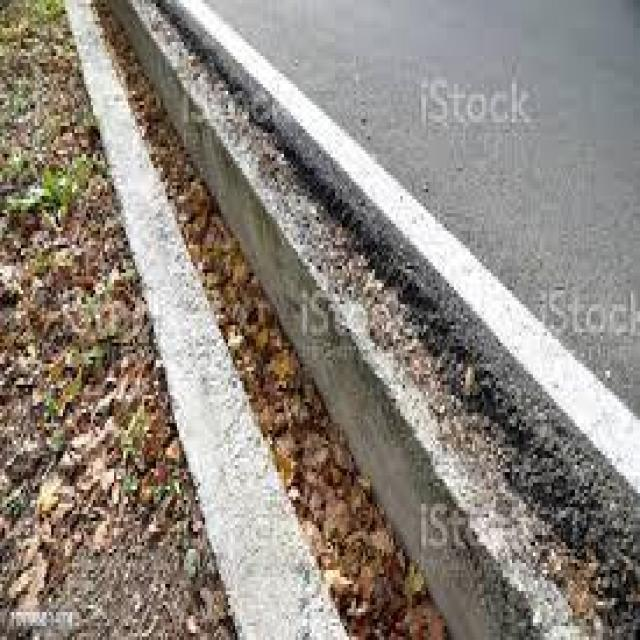curb: (108, 1, 639, 640)
